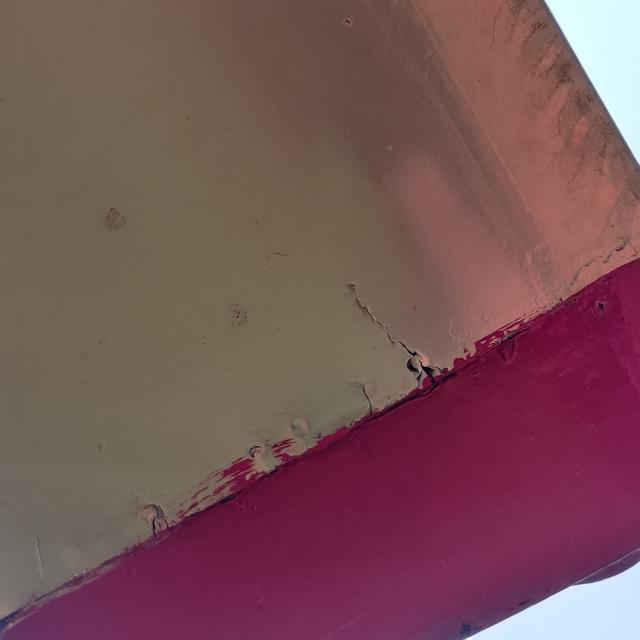crack: (337, 271, 449, 399), (349, 376, 386, 424), (143, 505, 172, 546)
